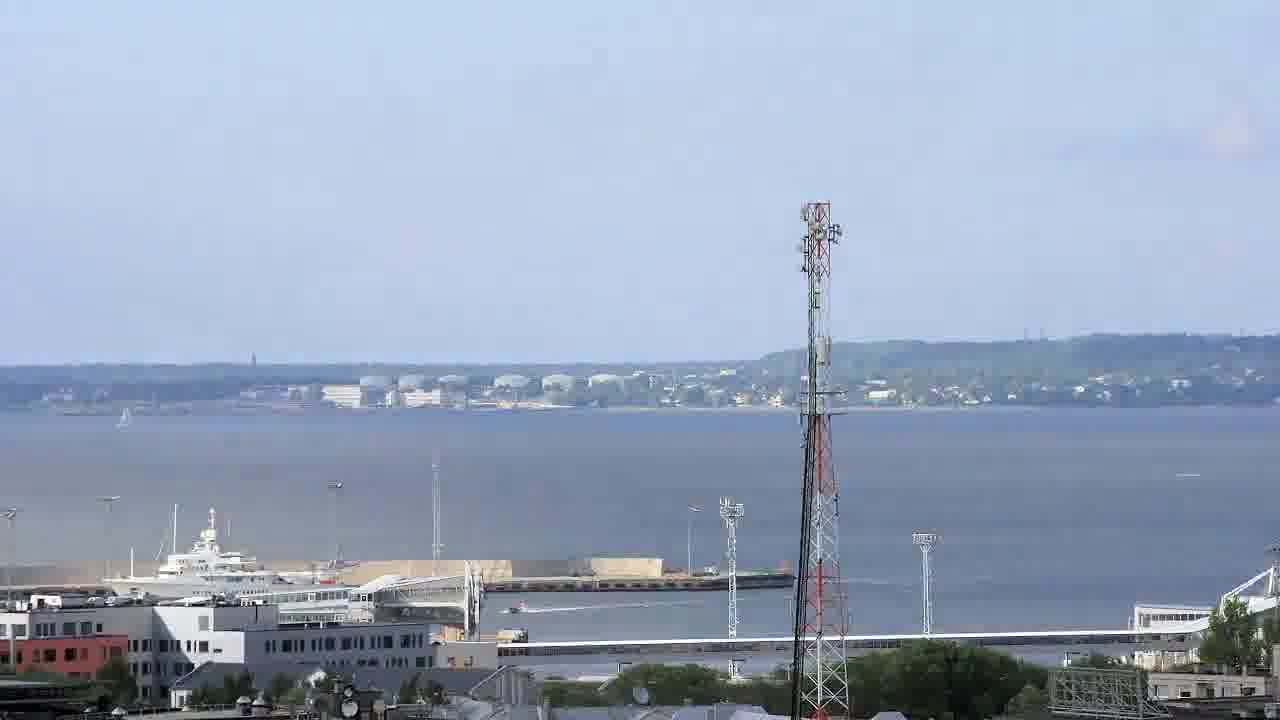type-2: (105, 389, 154, 445)
type-3: (88, 507, 346, 605)
type-4: (497, 589, 538, 620)
